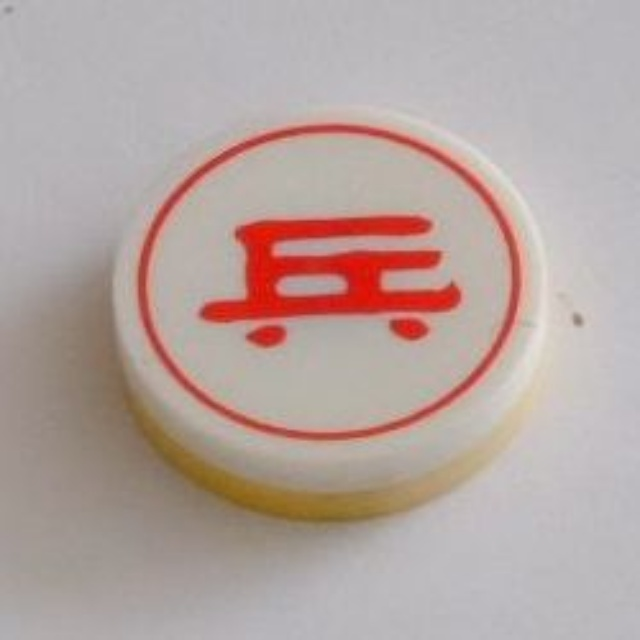red_chot: (100, 94, 563, 519)
